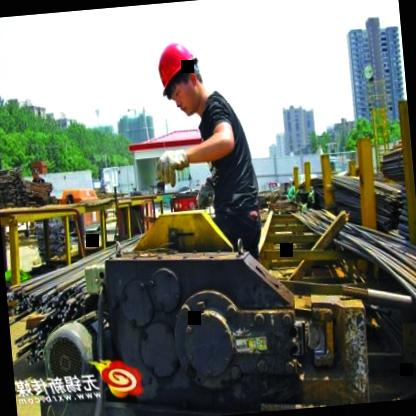helmet: (150, 30, 213, 124)
